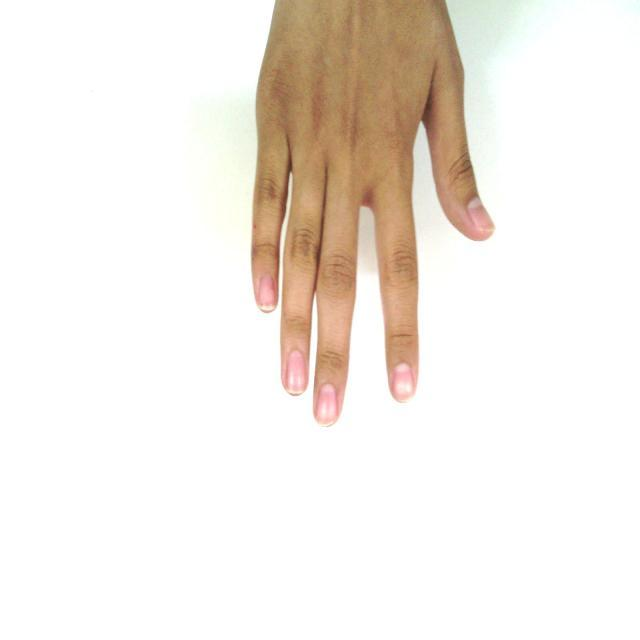Fingernail: (316, 384, 337, 425), (286, 351, 306, 393), (393, 363, 414, 401), (469, 199, 492, 230), (258, 275, 275, 309)
